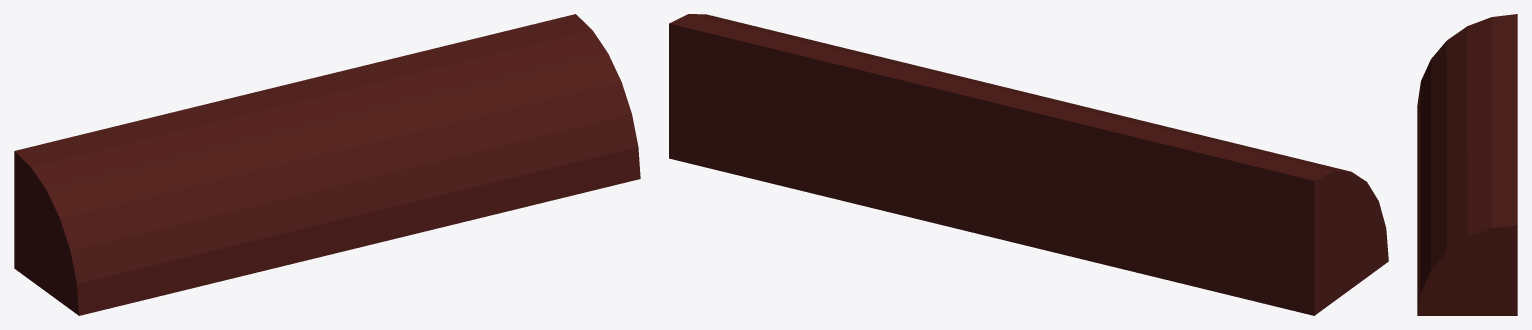
The model's file is vox_road_rampconvex.fbx.
The picture shows the model from 3 angles, left to right: view 1: azimuth 30°, elevation 25°; view 2: azimuth 150°, elevation 25°; view 3: azimuth 270°, elevation 25°; orthographic projection. The views are drawn at different scales.
Parts seen in each view (by area): view 1: Cube.079; view 2: Cube.079; view 3: Cube.079.
Boxes of the visible parts, x1,y1,x2,y2 form: Cube.079: [14, 14, 640, 315]; Cube.079: [669, 14, 1388, 315]; Cube.079: [1417, 14, 1517, 315].
Size of the model in its own units: 64 by 12.8 by 12.8.
